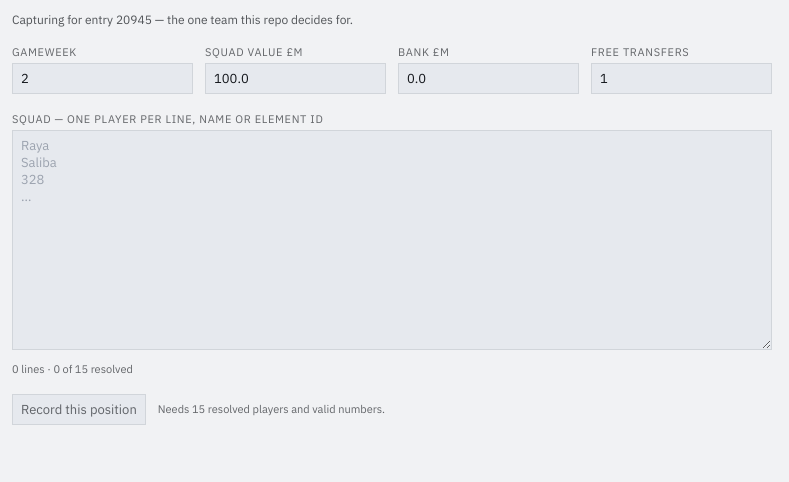
resolution refuses to guess › resolves a unique partial
In the text box labelled "Squad — one player per line, name or element id": (392, 240) x1=12 y1=130 x2=772 y2=350, type "Saliba"
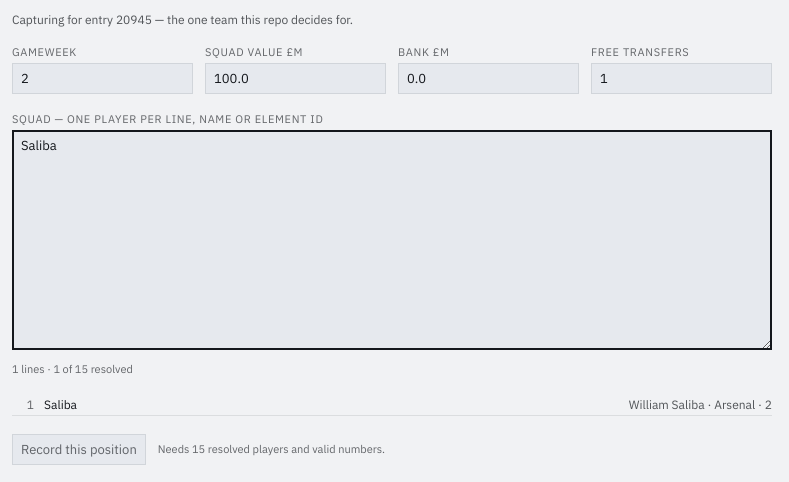
Now the text "William Saliba · Arsenal · 2" is shown, box x1=629 y1=396 x2=772 y2=412
